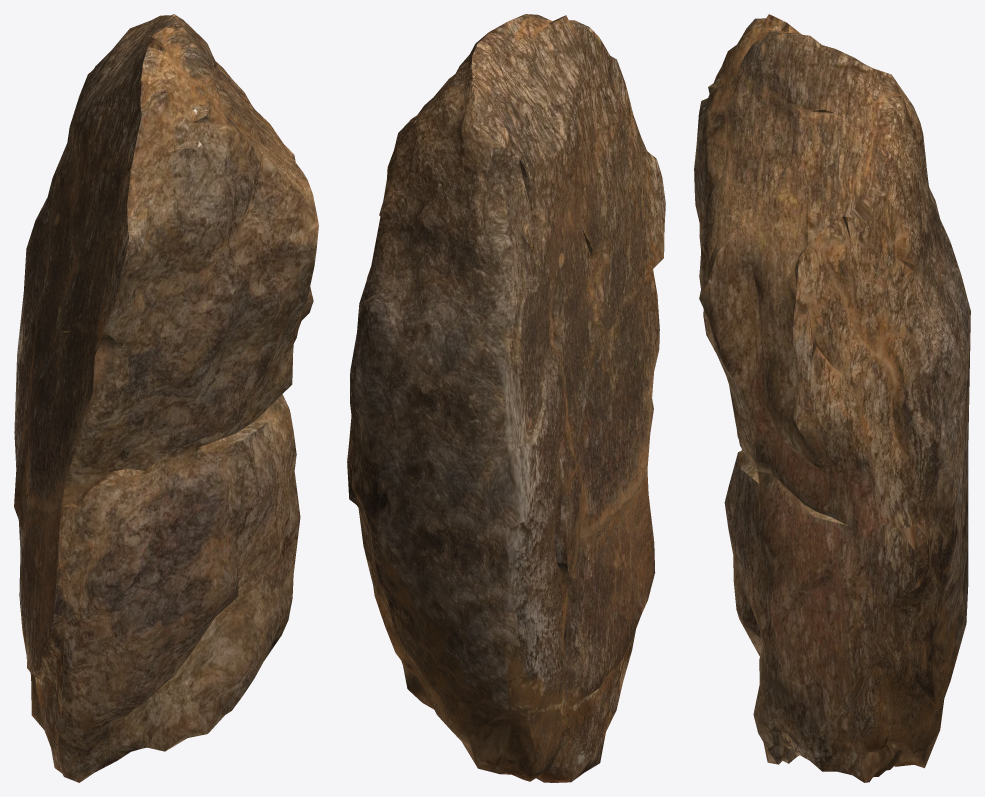
Rendered from standing_stone_slender.glb.
3 renders of one model, left to right at view 1: azimuth 30°, elevation 25°; view 2: azimuth 150°, elevation 25°; view 3: azimuth 270°, elevation 25°, orthographic. The views are drawn at different scales.
Visible parts, largest first — view 1: standing_stone_slender; view 2: standing_stone_slender; view 3: standing_stone_slender.
Boxes of the visible parts, left/top/right/bottom form: standing_stone_slender: left=14, top=14, right=318, bottom=782; standing_stone_slender: left=347, top=14, right=665, bottom=782; standing_stone_slender: left=694, top=14, right=970, bottom=782.
Bounding box in the file's own units: 1.7 × 4.59 × 1.49.
1 material, 1 textured.
